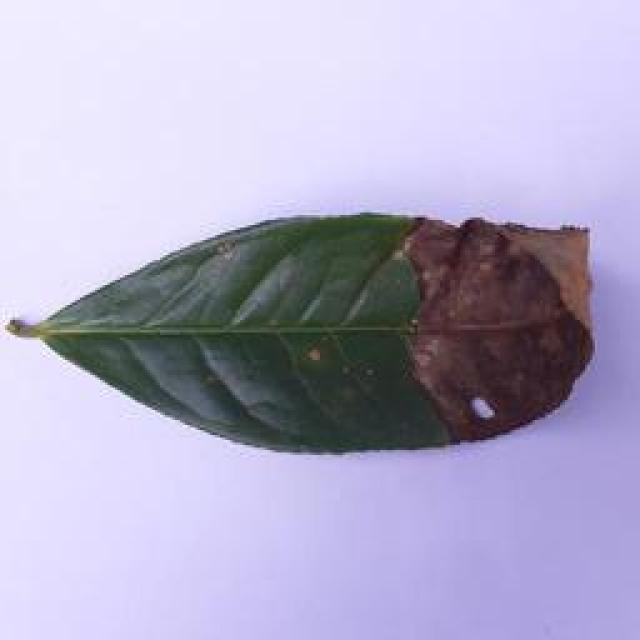Brown Blight: (0, 204, 614, 482)
